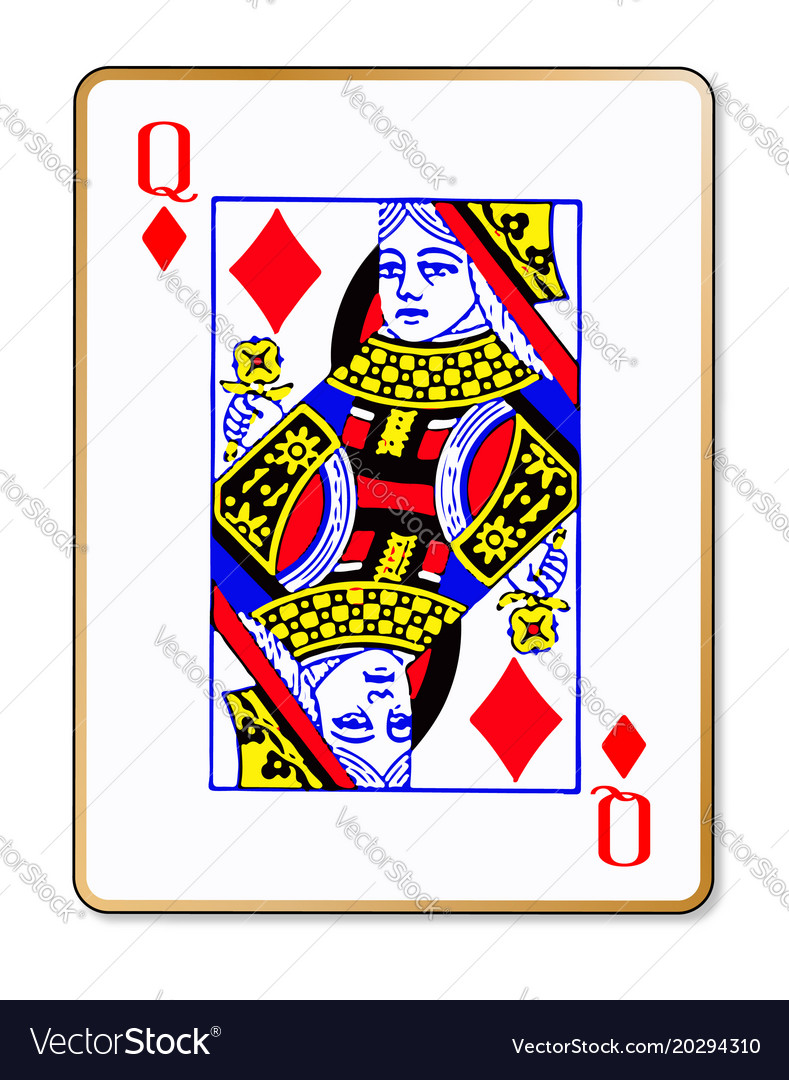queen of diamonds: (81, 70, 709, 900)
